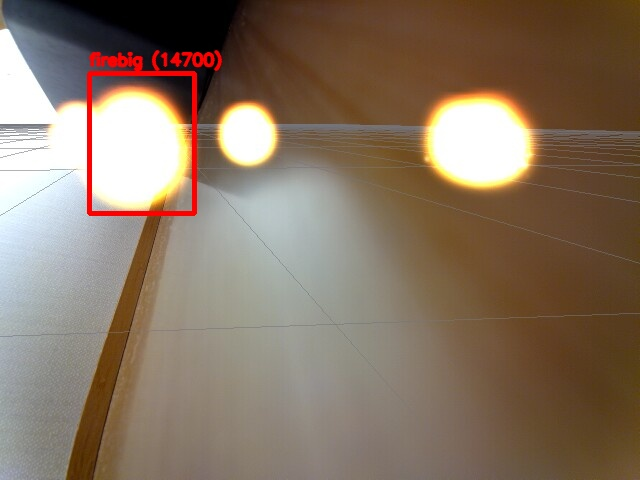firebig: (89, 73, 194, 213)
